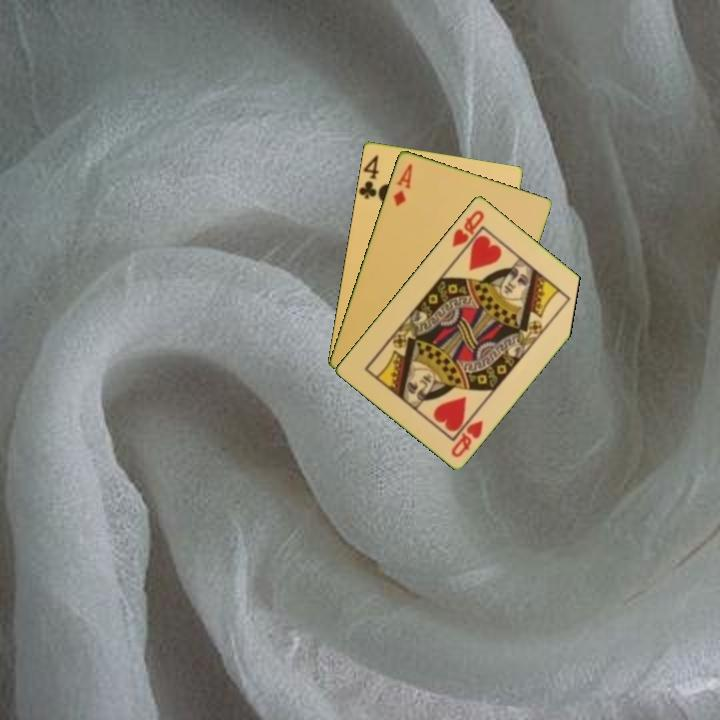4c: (357, 151, 381, 201)
Ad: (389, 160, 415, 209)
Qh: (448, 206, 487, 257), (447, 416, 486, 460)
